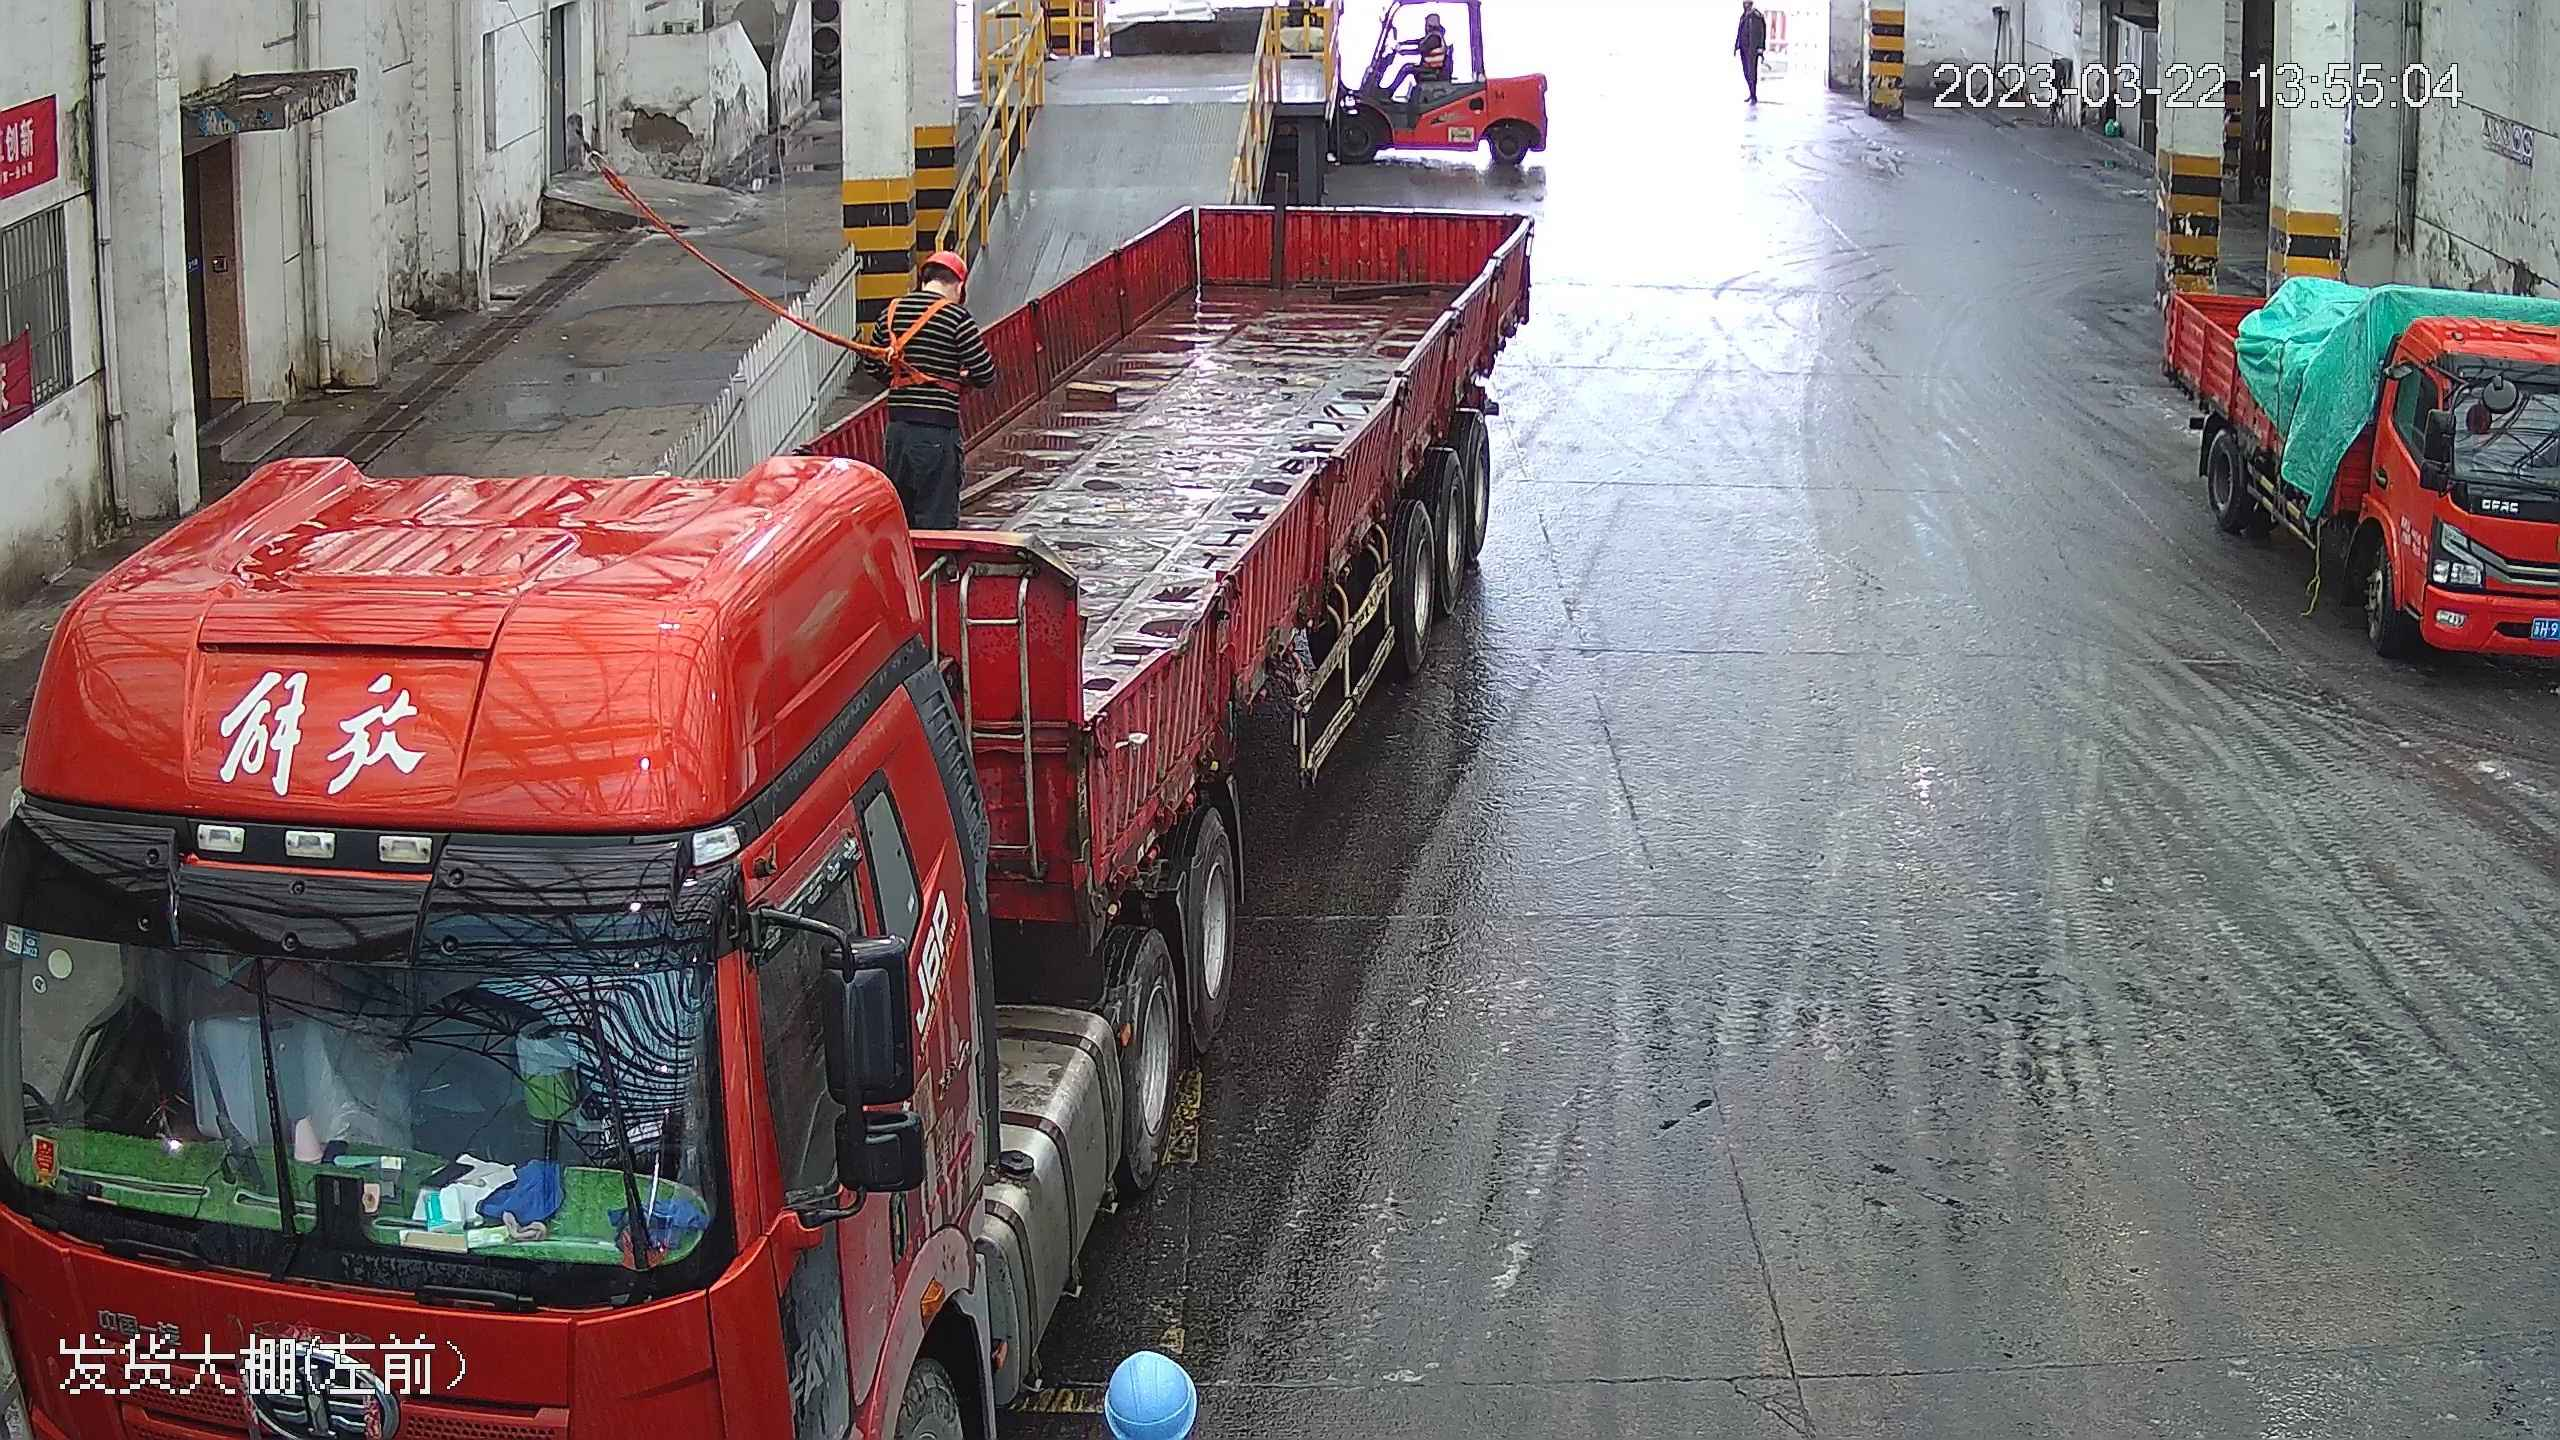belt: (871, 276, 962, 392)
head: (872, 248, 979, 366), (1404, 7, 1451, 57), (1734, 1, 1768, 30)
helmet: (1103, 1344, 1199, 1429), (921, 242, 978, 292), (1424, 8, 1444, 26)
people: (871, 237, 987, 532), (1384, 4, 1452, 99), (1732, 1, 1774, 114)
truck: (33, 41, 1509, 1440), (2161, 276, 2560, 685)
